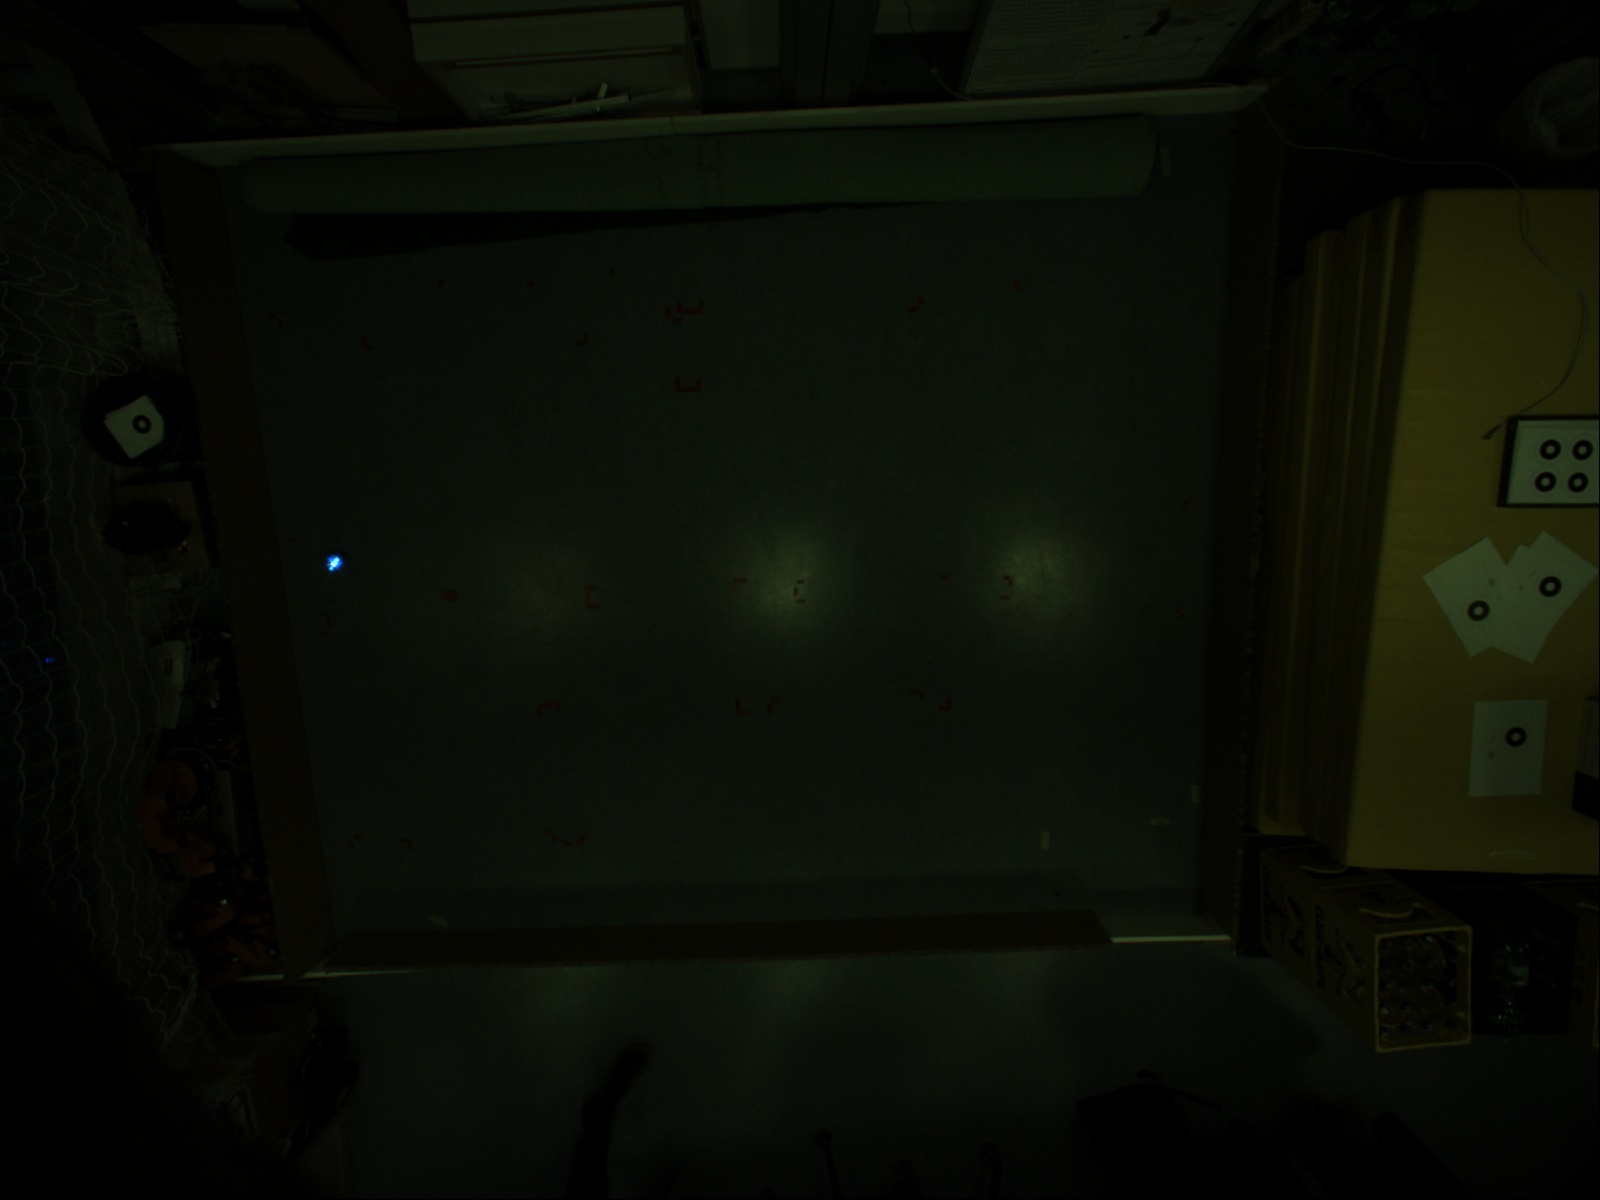sphero: (323, 550, 346, 576)
